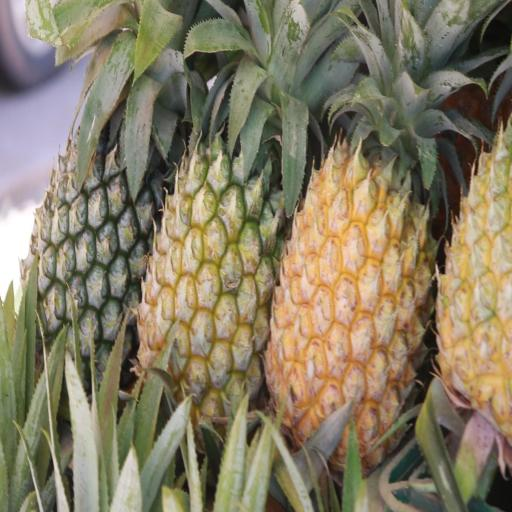------------------------------: (133, 0, 293, 432)
Pineapple - v8 v1: (260, 0, 444, 463)
